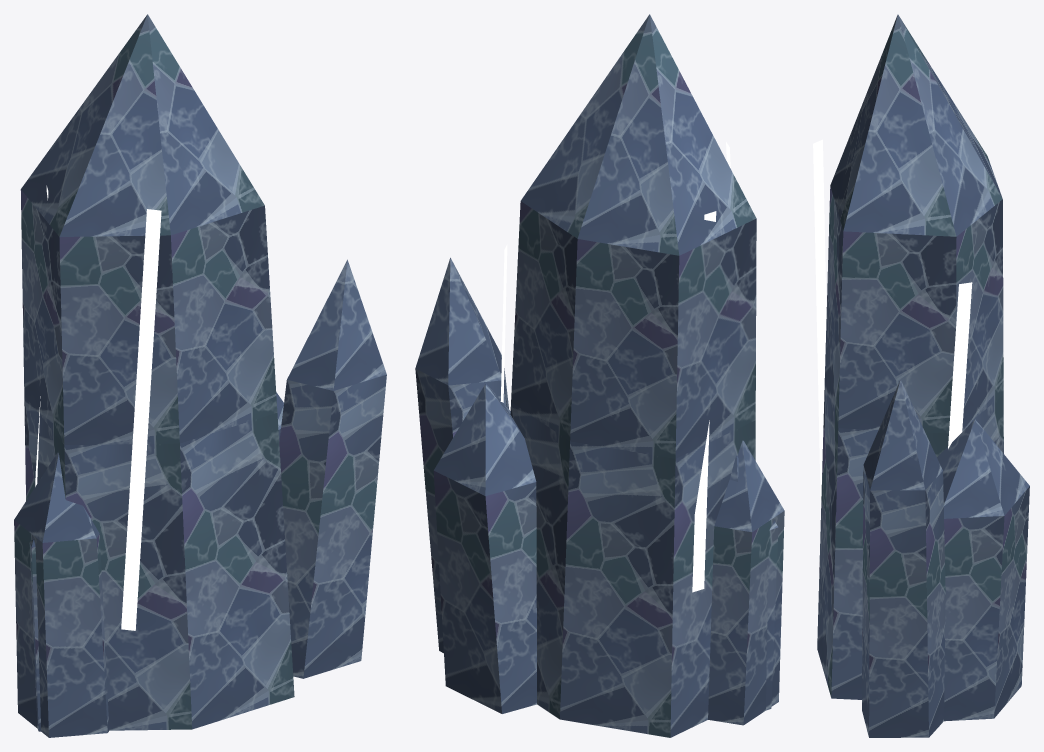
Rendered from Oracle_Crystal_Slab_3.gltf.
The picture shows the model from 3 angles, left to right: view 1: azimuth 30°, elevation 25°; view 2: azimuth 150°, elevation 25°; view 3: azimuth 270°, elevation 25°; orthographic projection. The views are drawn at different scales.
Parts seen in each view (by area): view 1: Oracle_Crystal_Slab_3; view 2: Oracle_Crystal_Slab_3; view 3: Oracle_Crystal_Slab_3.
Boxes of the visible parts, <box> form: Oracle_Crystal_Slab_3: <box>14,14,386,737</box>; Oracle_Crystal_Slab_3: <box>415,14,784,737</box>; Oracle_Crystal_Slab_3: <box>813,14,1029,737</box>.
Bounding box in the file's own units: 9.41 × 17.68 × 5.48.
2 materials, 2 textured.
